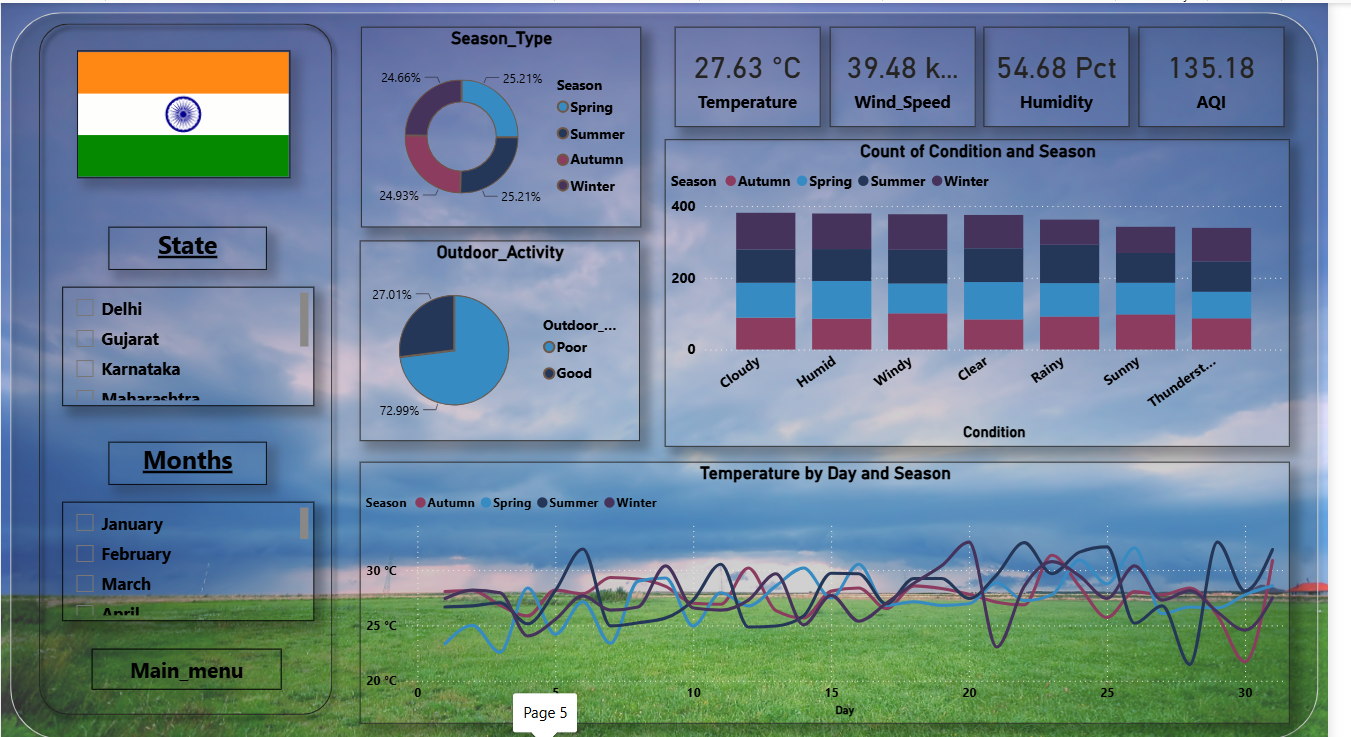

The page's visual inventory and layout, read from the dashboard file:
{"tool":"powerbi","page":{"name":"Page 5","canvas":[1280,720],"ordinal":4},"visuals":[{"type":"shape","box":[0,0,1280.3,720.1],"z":0},{"type":"lineChart","title":"Temperature by Day and Season","fields":{"Category":["India_Weather_data.Date.Variation.Date Hierarchy.Day"],"Y":["Avg(India_Weather_data.Temperature_C)"],"Series":["India_Weather_data.Season"]},"box":[346.6,443.3,897.4,252.6],"z":1000},{"type":"shape","box":[28.2,10.7,300.9,685.1],"z":2000},{"type":"pieChart","title":"Outdoor_Activity","fields":{"Category":["India_Weather_data.Outdoor_Activity"],"Y":["CountNonNull(India_Weather_data.Outdoor_Activity)"]},"box":[346.6,229.7,270,193.5],"z":3000},{"type":"columnChart","title":"Count of Condition and Season","fields":{"Category":["India_Weather_data.Condition"],"Y":["CountNonNull(India_Weather_data.Condition)"],"Series":["India_Weather_data.Season"]},"box":[640.8,131.7,603.2,296.9],"z":4000},{"type":"image","box":[73.9,45.7,205.5,123.6],"z":5000},{"type":"slicer","fields":{"Values":["India_Weather_data.State"]},"box":[59.1,274.1,243.2,115.5],"z":6000},{"type":"textbox","box":[103.4,216.3,153.1,41.6],"z":7000},{"type":"textbox","box":[103.4,423.2,153.1,41.6],"z":8000},{"type":"slicer","fields":{"Values":["India_Weather_data.Date.Variation.Date Hierarchy.Month"]},"box":[59.1,480.9,243.2,115.5],"z":9000},{"type":"card","fields":{"Values":["Avg(India_Weather_data.Temperature_C)"]},"box":[650.2,22.8,141.1,96.7],"z":10000},{"type":"card","fields":{"Values":["Avg(India_Weather_data.Wind_Speed_kmph)"]},"box":[799.3,22.8,141.1,96.7],"z":11000},{"type":"card","fields":{"Values":["Avg(India_Weather_data.Humidity_Pct)"]},"box":[948.4,22.8,141.1,96.7],"z":12000},{"type":"card","fields":{"Values":["Avg(India_Weather_data.AQI)"]},"box":[1097.6,22.8,141.1,96.7],"z":13000},{"type":"donutChart","title":"Season_Type","fields":{"Category":["India_Weather_data.Season"],"Y":["CountNonNull(India_Weather_data.Season)"]},"box":[347.9,22.8,270,193.5],"z":14000},{"type":"shape","box":[77.9,613.9,201.5,57.8],"z":15000}]}

Visuals, with their boxes on the page's 1280x720 design canvas (x1, y1, x2, y2). These are canvas units, not pixel positions in the 1351x737 screenshot, which may show the page scaled, cropped or inside an application window:
shape: [left=0, top=0, right=1280, bottom=720]
"Temperature by Day and Season" lineChart: [left=347, top=443, right=1244, bottom=696]
shape: [left=28, top=11, right=329, bottom=696]
"Outdoor_Activity" pieChart: [left=347, top=230, right=617, bottom=423]
"Count of Condition and Season" columnChart: [left=641, top=132, right=1244, bottom=429]
image: [left=74, top=46, right=279, bottom=169]
slicer - India_Weather_data.State: [left=59, top=274, right=302, bottom=390]
textbox: [left=103, top=216, right=256, bottom=258]
textbox: [left=103, top=423, right=256, bottom=465]
slicer - India_Weather_data.Date.Variation.Date Hierarchy.Month: [left=59, top=481, right=302, bottom=596]
card - Avg(India_Weather_data.Temperature_C): [left=650, top=23, right=791, bottom=120]
card - Avg(India_Weather_data.Wind_Speed_kmph): [left=799, top=23, right=940, bottom=120]
card - Avg(India_Weather_data.Humidity_Pct): [left=948, top=23, right=1090, bottom=120]
card - Avg(India_Weather_data.AQI): [left=1098, top=23, right=1239, bottom=120]
"Season_Type" donutChart: [left=348, top=23, right=618, bottom=216]
shape: [left=78, top=614, right=279, bottom=672]
